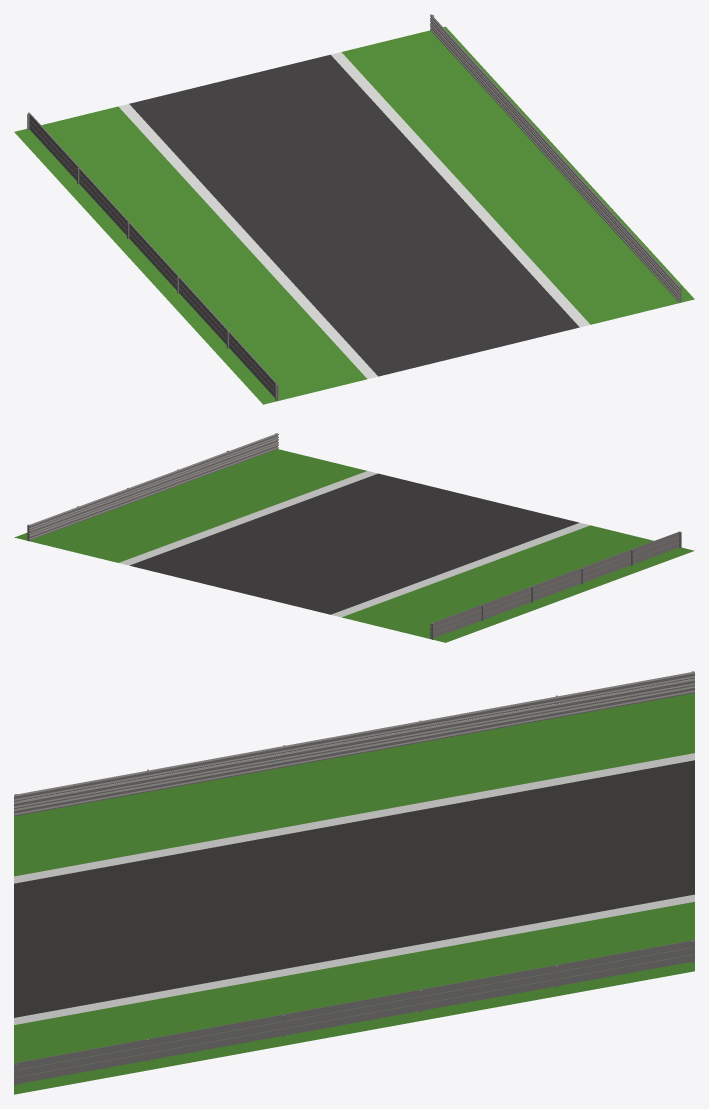
Rendered from tiles-nb_tile-race-track-hill-nb.fbx.
3 views of the same model, one above another, from view 1: azimuth 30°, elevation 25°; view 2: azimuth 150°, elevation 25°; view 3: azimuth 270°, elevation 25° (orthographic). The views are drawn at different scales.
Visible parts, largest first — view 1: tiles_nb_tile_race_track_hill_nb; view 2: tiles_nb_tile_race_track_hill_nb; view 3: tiles_nb_tile_race_track_hill_nb.
Part boxes in pixels (x1=…): tiles_nb_tile_race_track_hill_nb: x1=14, y1=14, x2=694, y2=404; tiles_nb_tile_race_track_hill_nb: x1=14, y1=433, x2=694, y2=642; tiles_nb_tile_race_track_hill_nb: x1=14, y1=671, x2=694, y2=1094.
Bounding box in the file's own units: 200 × 47 × 200.
